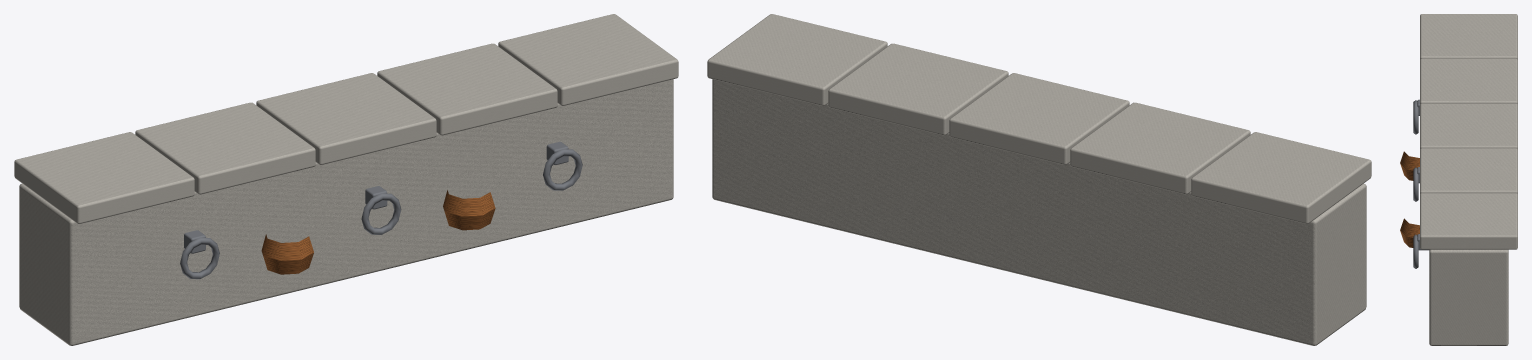
The model's file is greek-island-village-and-harbour-quay-edge-module-c4f14c1f__37101.glb.
The picture shows the model from 3 angles, left to right: view 1: azimuth 30°, elevation 25°; view 2: azimuth 150°, elevation 25°; view 3: azimuth 270°, elevation 25°; orthographic projection. The views are drawn at different scales.
Parts seen in each view (by area): view 1: quay-edge-module; view 2: quay-edge-module; view 3: quay-edge-module.
Part boxes in pixels (box(x1,y1,x2,y2)): quay-edge-module: box(14, 14, 678, 345); quay-edge-module: box(707, 14, 1371, 345); quay-edge-module: box(1400, 14, 1517, 345).
Size of the model in its own units: 4 by 0.9199 by 0.8898.
3 materials, 2 textured.
